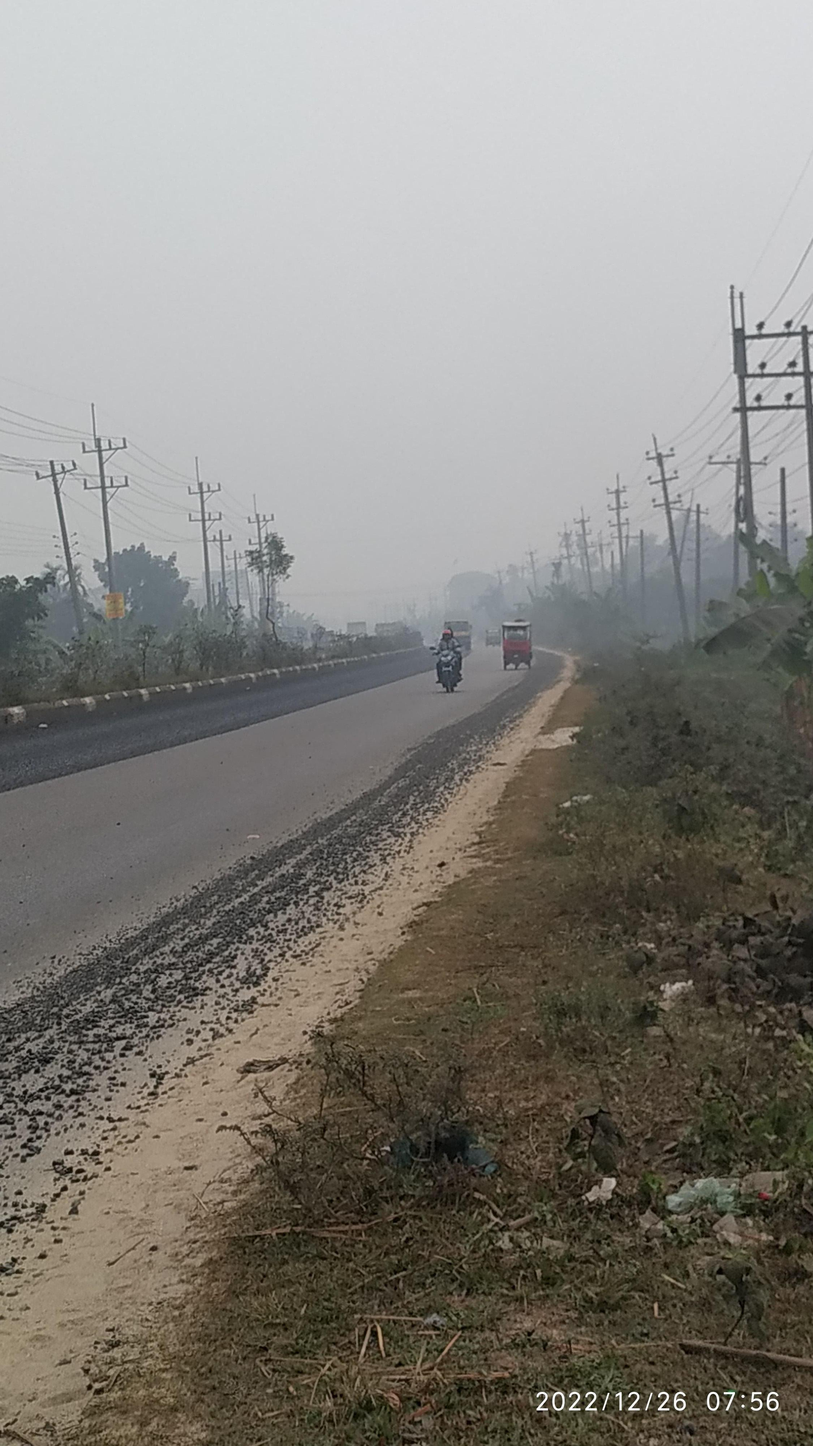Bike: (420, 615, 477, 706)
Car: (494, 606, 549, 684)
